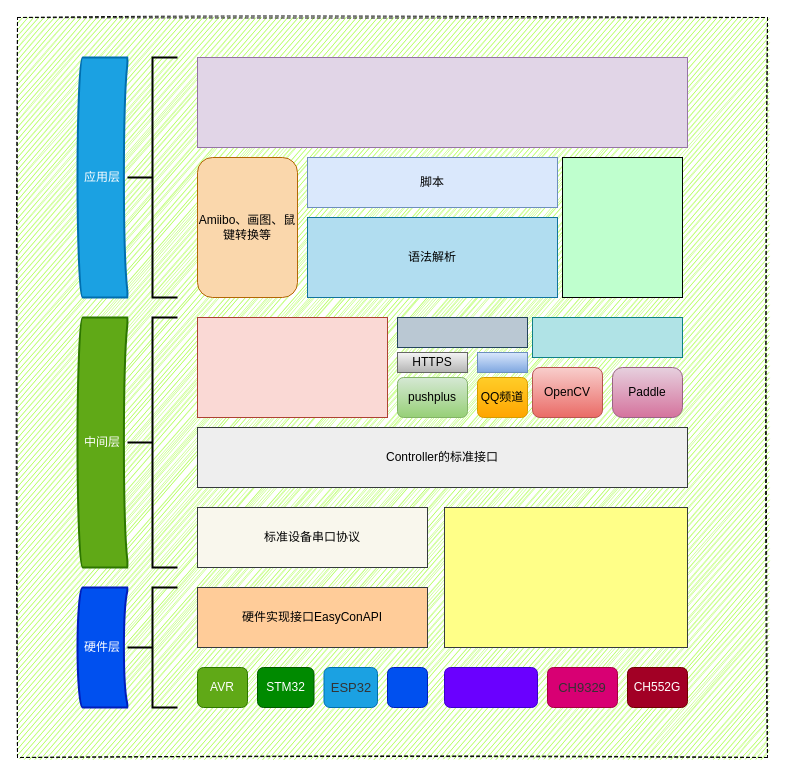
The diagram is 785 pixels wide and 775 high, and some of its shapes have lost their labels. The shapes that lost their labels are listed below. From the top down, each one's centre as x and y in pixels, then its label:
At point 442,102: "MAUI-WPF-MVVM-跨平台支持".
At point 622,227: "采集卡相关".
At point 462,332: "推送".
At point 607,337: "统一的采集卡操作集".
At point 292,367: "统一的Controller操作集".
At point 502,362: "WS".
At point 566,577: "特殊设备自定义串口协议或者蓝牙".
At point 407,687: "CH32".
At point 491,687: "CSR8510A10".
